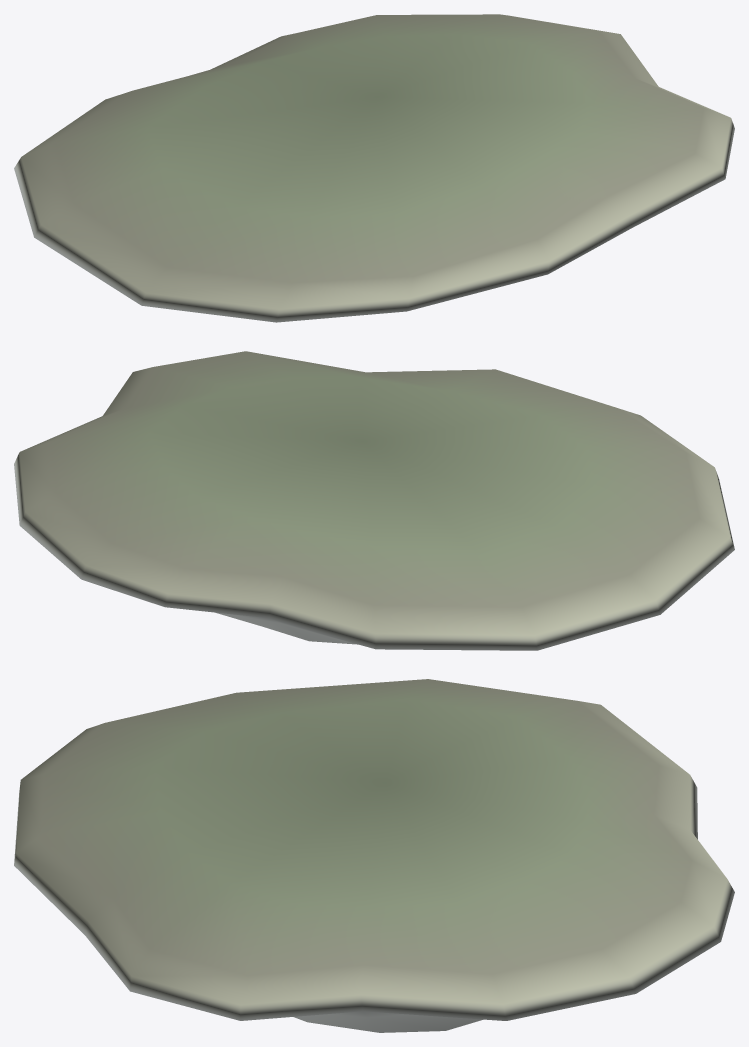
3 renders of one model, top to bottom at view 1: azimuth 30°, elevation 25°; view 2: azimuth 150°, elevation 25°; view 3: azimuth 270°, elevation 25°, orthographic. The views are drawn at different scales.
Visible parts, largest first — view 1: G:\FFXIV-MapTools\exports\e3f1\bg\ex2\02_est_e3\fld\e3f1\bgp (×2); view 2: G:\FFXIV-MapTools\exports\e3f1\bg\ex2\02_est_e3\fld\e3f1\bgp (×3); view 3: G:\FFXIV-MapTools\exports\e3f1\bg\ex2\02_est_e3\fld\e3f1\bgp (×3).
Boxes of the visible parts, box(x1,y1,x2,y2) form: G:\FFXIV-MapTools\exports\e3f1\bg\ex2\02_est_e3\fld\e3f1\bgp (×2): box(14, 14, 734, 322); G:\FFXIV-MapTools\exports\e3f1\bg\ex2\02_est_e3\fld\e3f1\bgp (×3): box(14, 351, 734, 650); G:\FFXIV-MapTools\exports\e3f1\bg\ex2\02_est_e3\fld\e3f1\bgp (×3): box(14, 679, 734, 1032).
Size of the model in its own units: 10.61 by 2.17 by 9.12.
